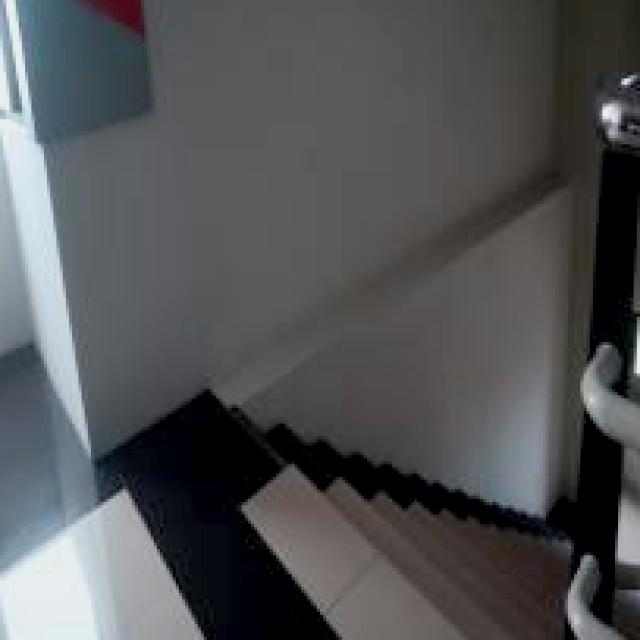downstair: (218, 503, 519, 640)
